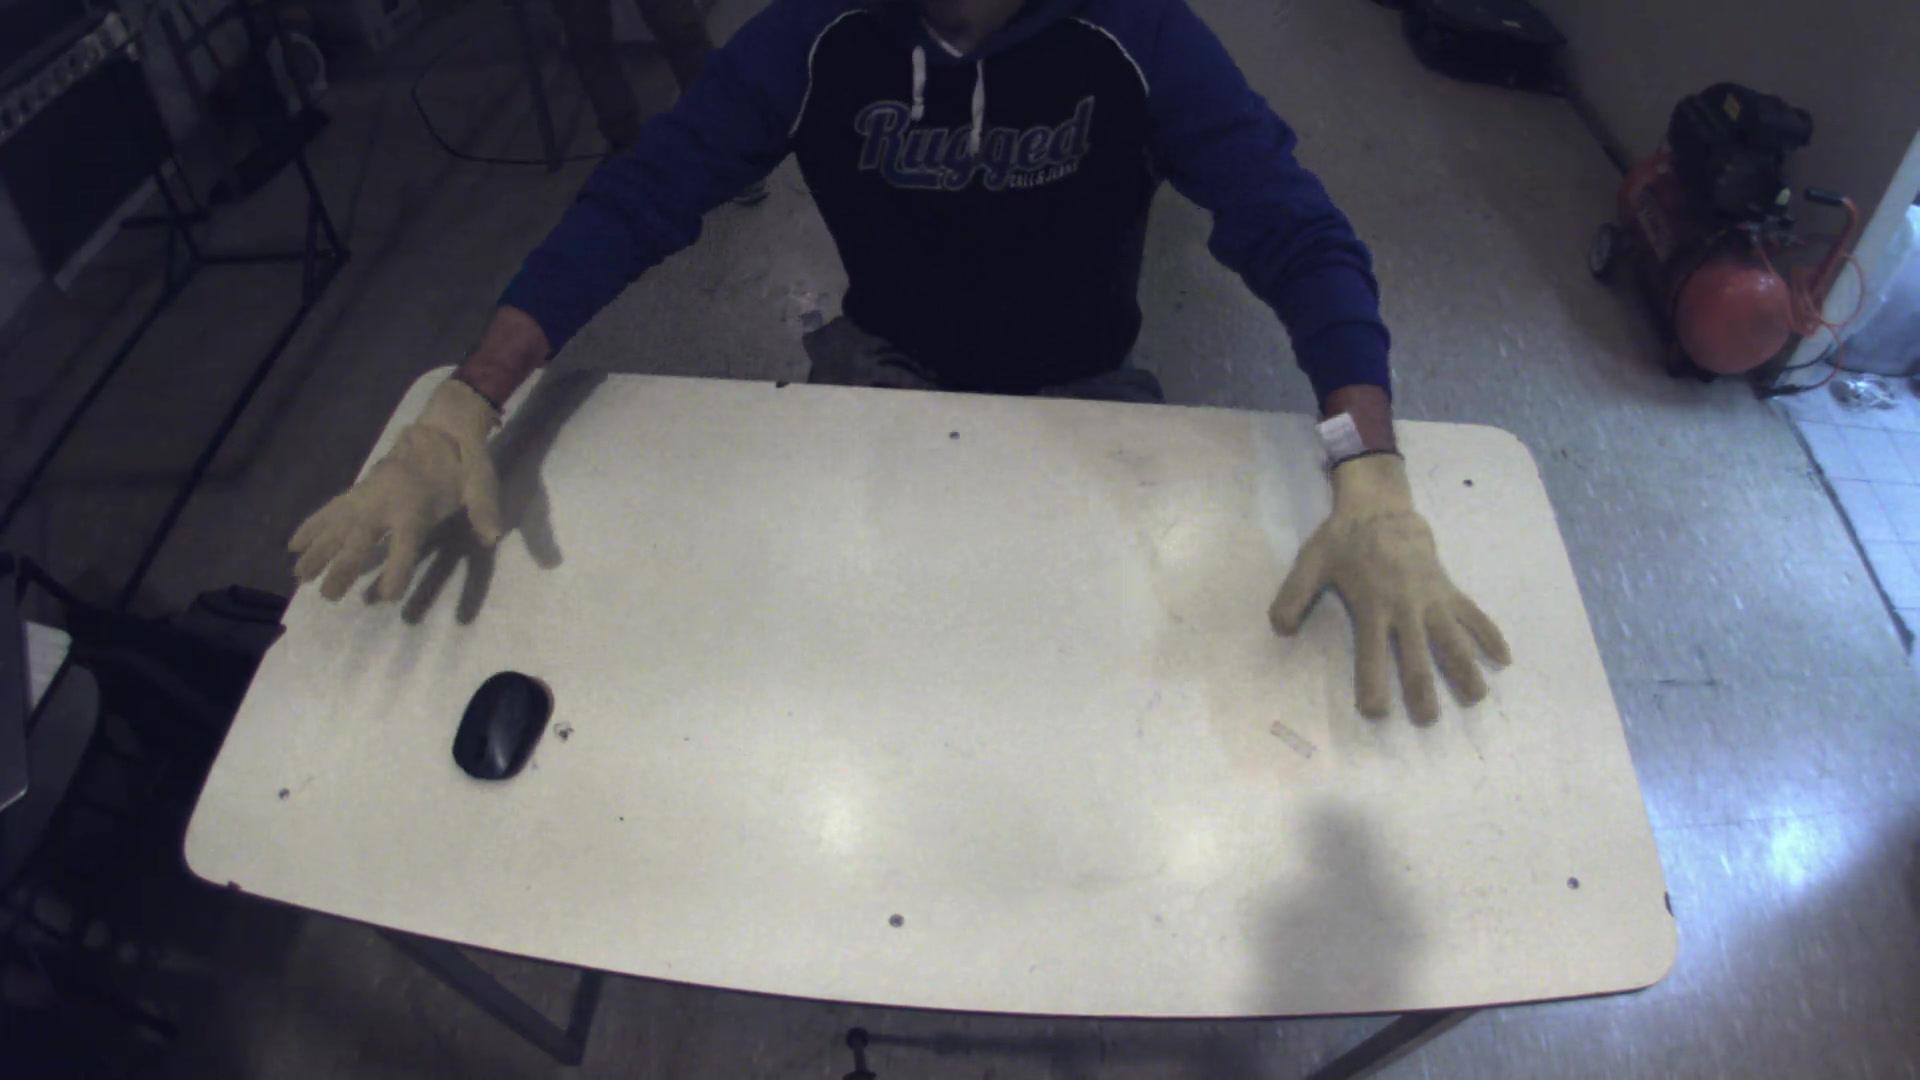hand: (1270, 446, 1522, 735), (286, 363, 508, 632)
